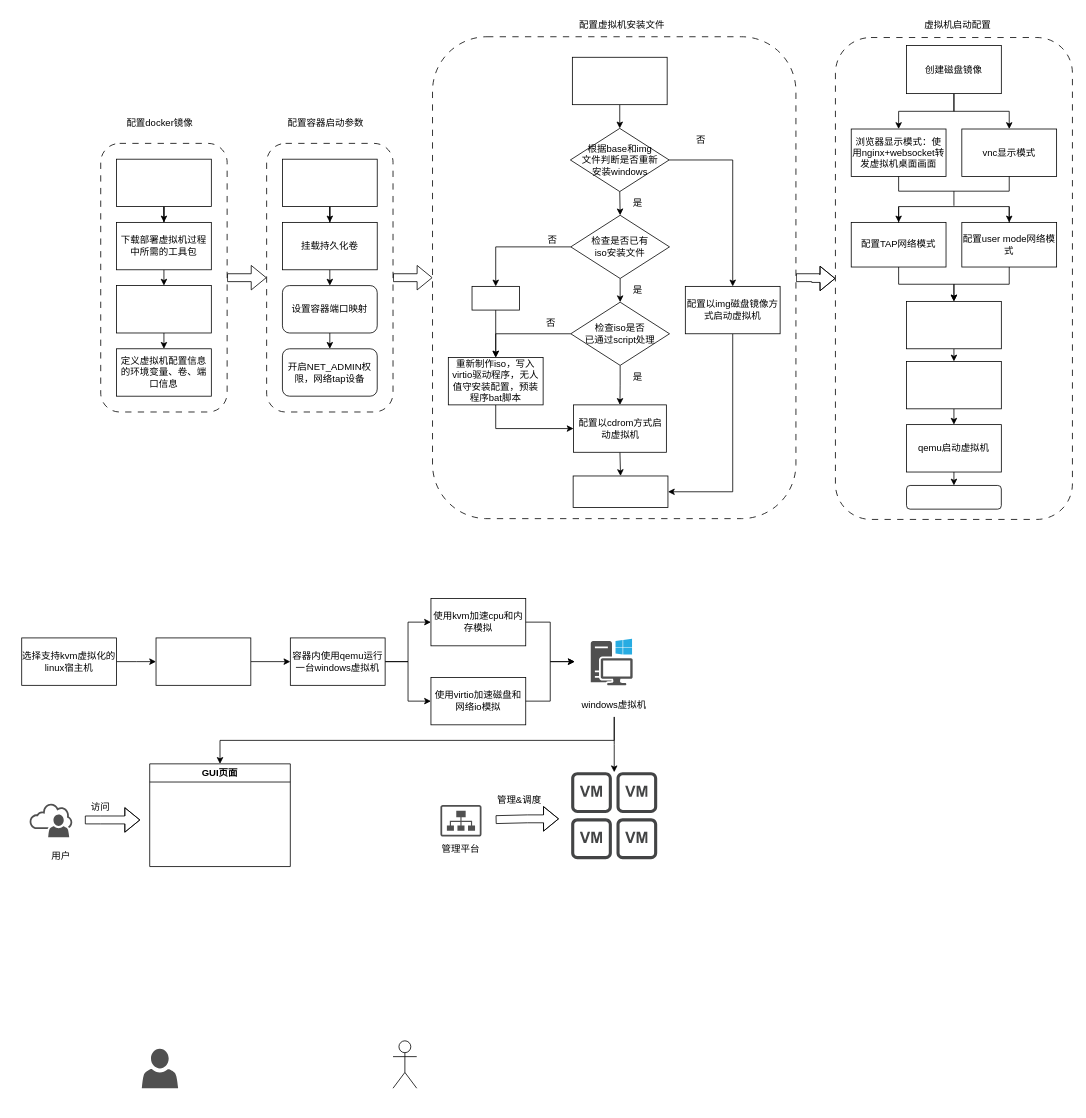
This 1086x1118 diagram has some shape labels left out. Each missing label, with the box of its shape:
Actor: (392, 1040, 417, 1088)
下载iso: (471, 286, 519, 310)
下载virtio驱动包: (116, 285, 211, 333)
使用samba配置文件共享: (906, 301, 1001, 349)
在宿主机上构建os为debian的docker容器: (155, 637, 251, 685)
完成安装文件准备: (572, 475, 668, 508)
挂载kvm设备: (282, 158, 377, 207)
指定debian基础镜像: (116, 158, 211, 207)
检查宿主机CPU，RAM，文件系统兼容性等信息: (572, 56, 667, 105)
结束: (906, 485, 1001, 509)
配置boot启动方式: (906, 361, 1001, 409)
